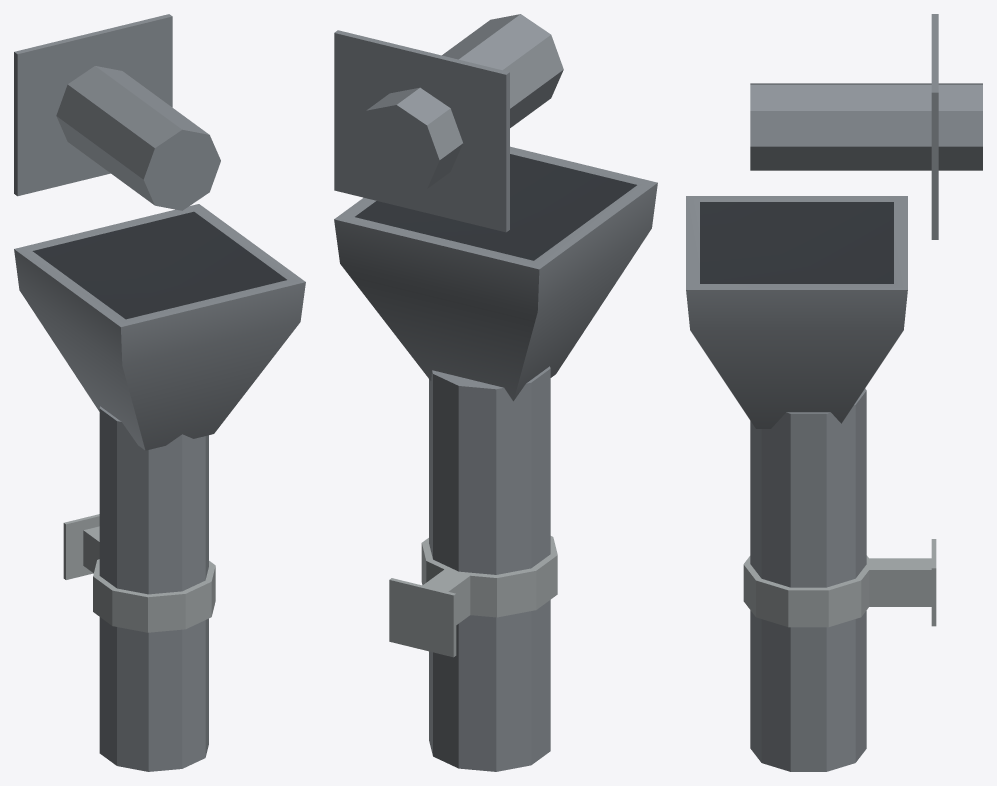
The model's file is SC_Bld_Villa_Downspout_Top.gltf.
The picture shows the model from 3 angles, left to right: view 1: azimuth 30°, elevation 25°; view 2: azimuth 150°, elevation 25°; view 3: azimuth 270°, elevation 25°; orthographic projection. The views are drawn at different scales.
Parts seen in each view (by area): view 1: SC_Bld_Villa_Downspout_Top; view 2: SC_Bld_Villa_Downspout_Top; view 3: SC_Bld_Villa_Downspout_Top.
Boxes of the visible parts, x1,y1,x2,y2 form: SC_Bld_Villa_Downspout_Top: (14, 14, 305, 771); SC_Bld_Villa_Downspout_Top: (334, 14, 657, 771); SC_Bld_Villa_Downspout_Top: (686, 14, 982, 771).
Bounding box in the file's own units: 0.1909 × 0.66 × 0.2555.
1 material, 1 textured.
